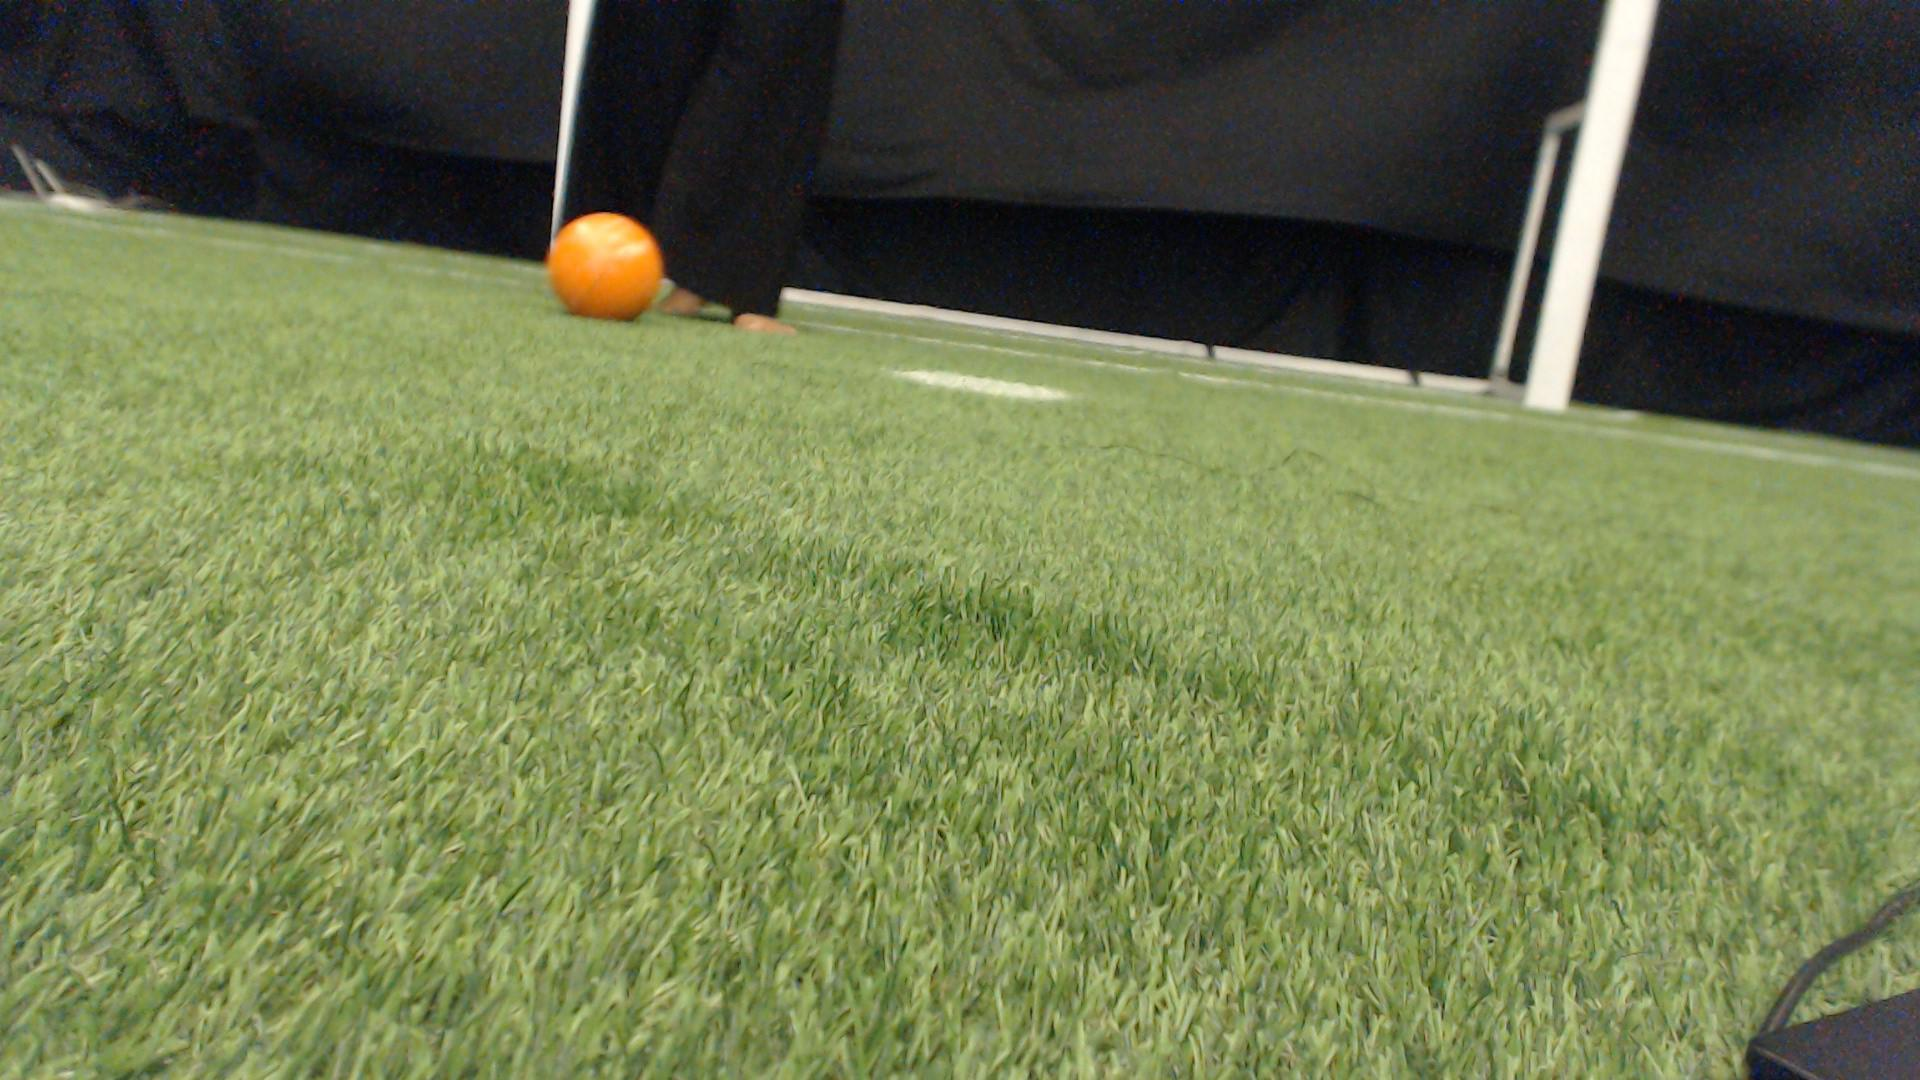bola: (534, 195, 686, 339)
